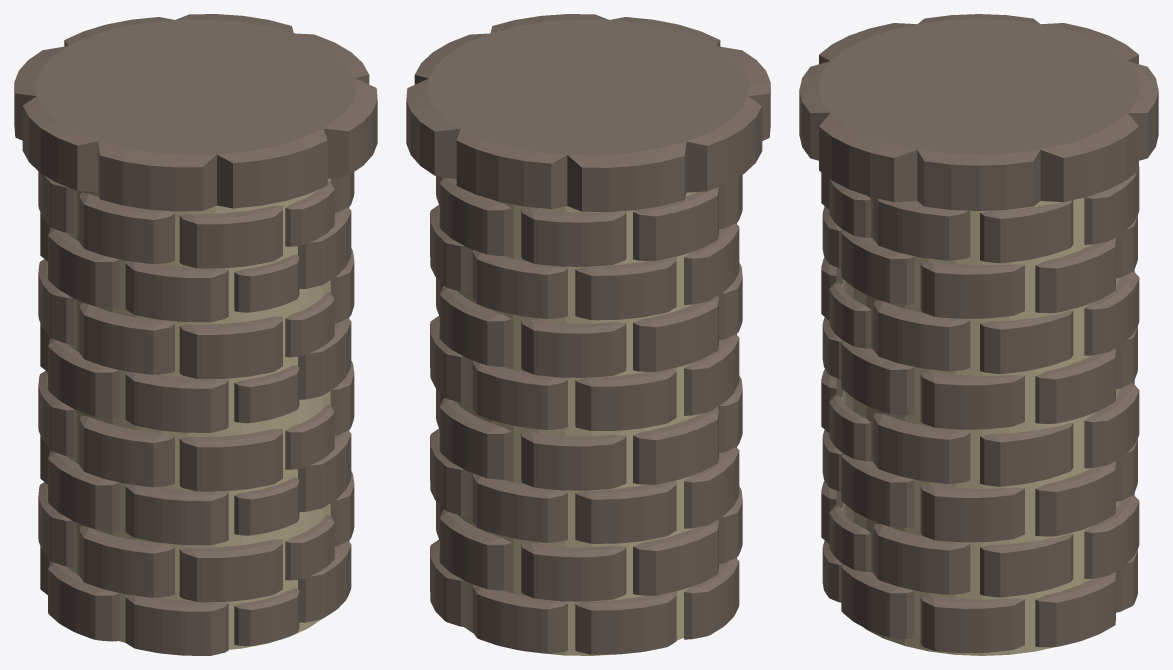
Rendered from Turret.fbx.
The picture shows the model from 3 angles, left to right: view 1: azimuth 30°, elevation 25°; view 2: azimuth 150°, elevation 25°; view 3: azimuth 270°, elevation 25°; orthographic projection.
Visible parts, largest first — view 1: Turret-Base, Turret-Top; view 2: Turret-Base, Turret-Top; view 3: Turret-Base, Turret-Top.
Boxes of the visible parts, x1=… form: Turret-Base: x1=38, y1=171, x2=354, y2=655; Turret-Top: x1=14, y1=14, x2=377, y2=211; Turret-Base: x1=430, y1=175, x2=742, y2=655; Turret-Top: x1=406, y1=14, x2=770, y2=211; Turret-Base: x1=821, y1=166, x2=1139, y2=655; Turret-Top: x1=799, y1=14, x2=1158, y2=210.
Bounding box in the file's own units: 136 × 213 × 136.
